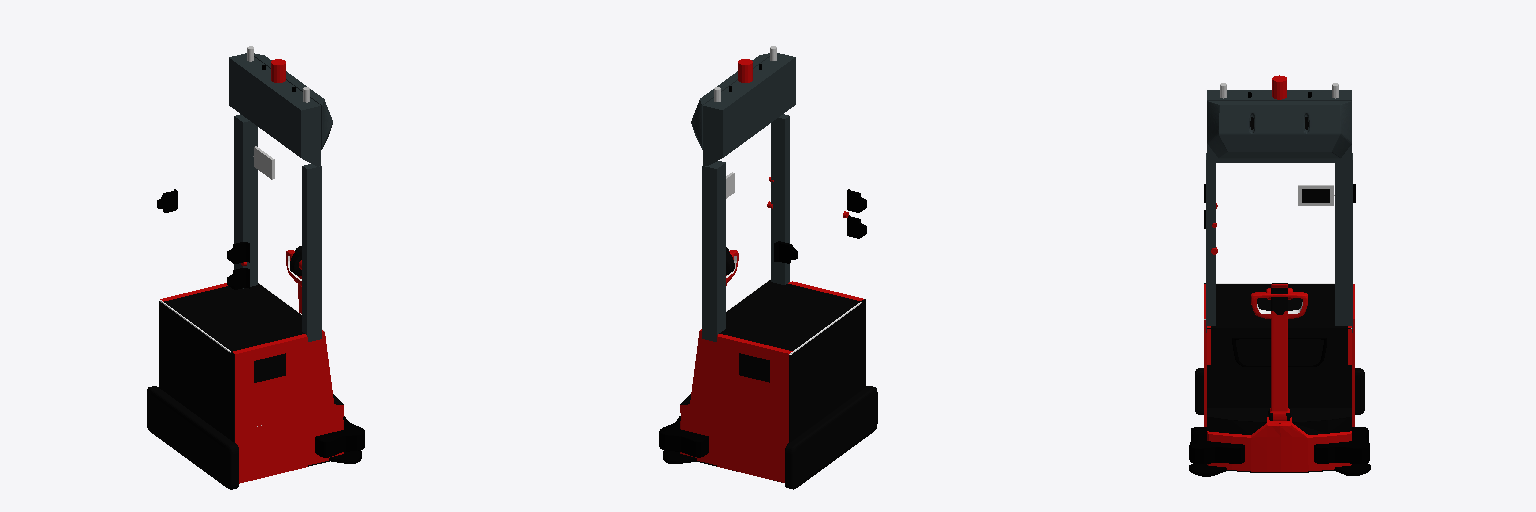
Rendered from car.obj.
The picture shows the model from 3 angles: view 1: azimuth 30°, elevation 25°; view 2: azimuth 150°, elevation 25°; view 3: azimuth 270°, elevation 25°; orthographic projection.
Visible parts, largest first — view 1: car.obj; view 2: car.obj; view 3: car.obj.
Part boxes in pixels (x1,y1,x2,y2): car.obj: (147, 46, 364, 489); car.obj: (659, 46, 877, 489); car.obj: (1189, 75, 1370, 476).
Bounding box in the file's own units: 6.77 × 17.86 × 7.8.